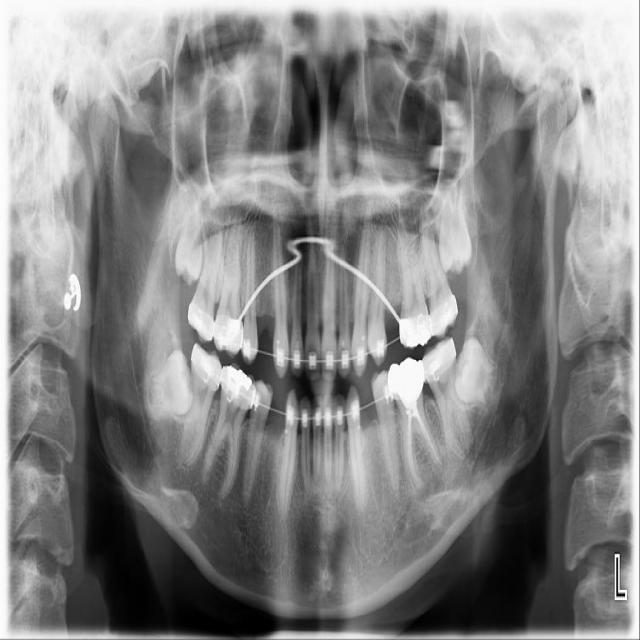3M ESPE Implant: (174, 175, 207, 286)
52: (388, 358, 424, 412)
73: (386, 400, 452, 492), (594, 582, 600, 586)
BioHorizons Implant: (412, 187, 463, 341)
BioLife Implant: (438, 179, 474, 276)
Biomet 3i Implant: (449, 334, 503, 407)
Blue Sky Bio Implant: (417, 333, 478, 464)
Caries: (185, 191, 228, 344)
Implant: (175, 342, 226, 467)
Keystone Dental Implant: (148, 347, 196, 419)
